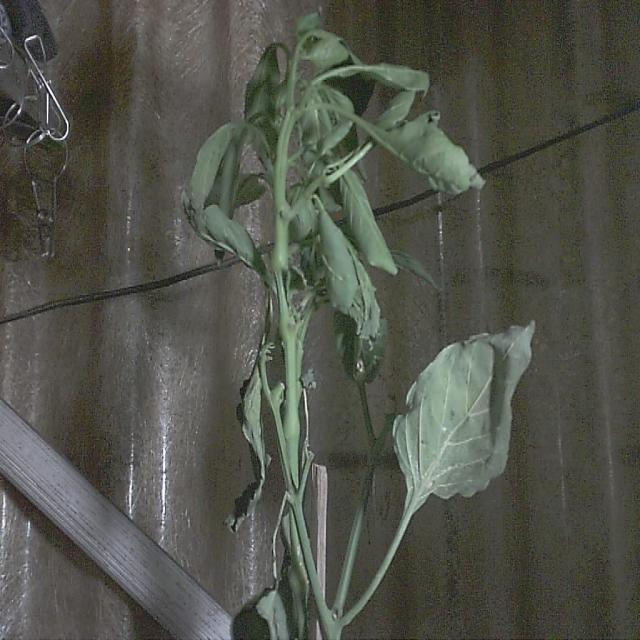Leaf: (392, 317, 536, 498), (380, 118, 486, 196)
